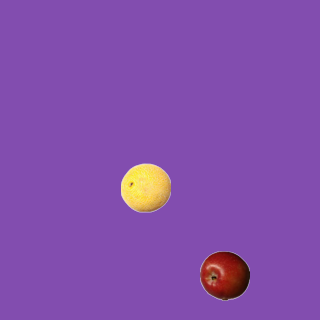Apple Braeburn: (199, 250, 249, 300)
Cantaloupe 1: (120, 162, 170, 212)
